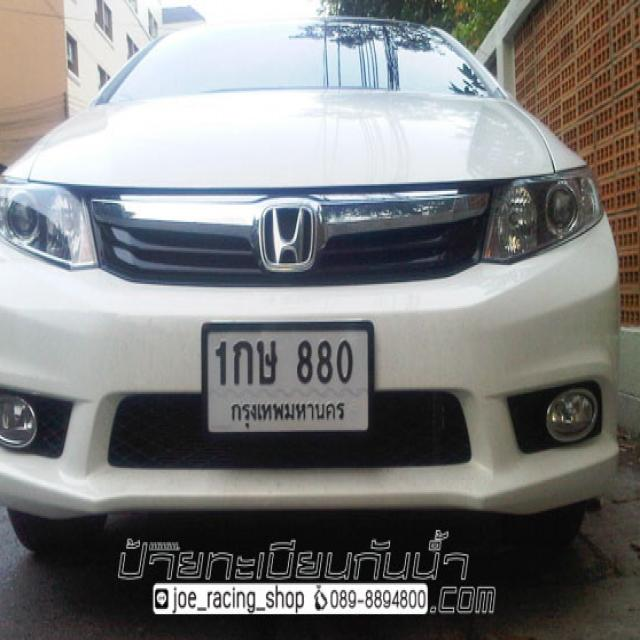license_plate: (196, 313, 382, 445)
